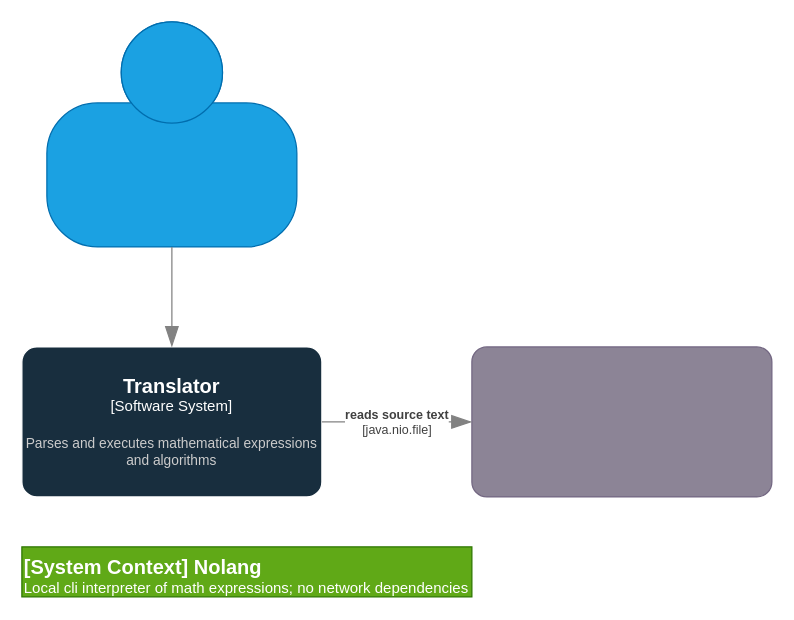
Image size: 794x620. Some labels were removed from this diagram. Each missing label, with the centre of its shape:
Developer [Person] Person who provides input to get evaluated result: point (171, 134)
File system [Software System] Description of external software system.: point (621, 421)
